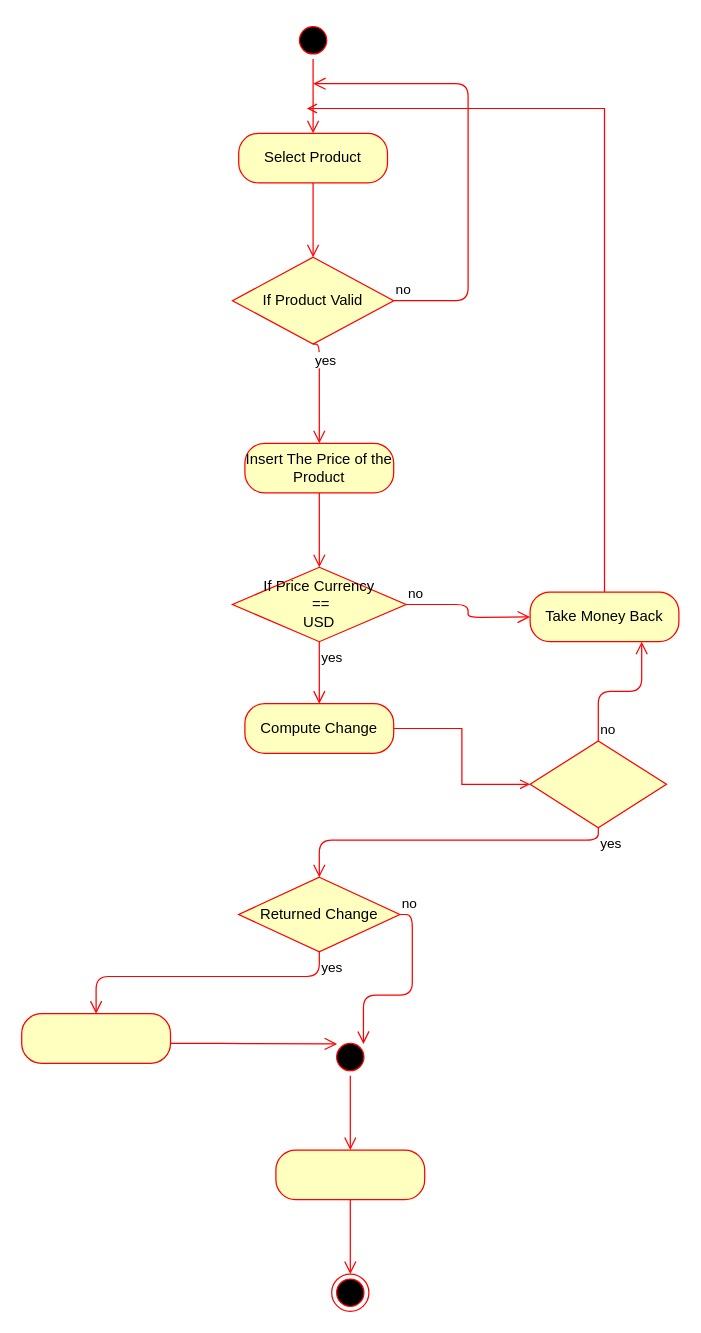
Image size: 701x1333. Some labels were removed from this diagram. The shapes that lost their labels are listed below. From the top down, each one's centre as x and y in pixels, then its label:
At pixel 597 784: "Enough Change".
At pixel 95 1037: "Take Money Reminder".
At pixel 350 1174: "Take The Product".
